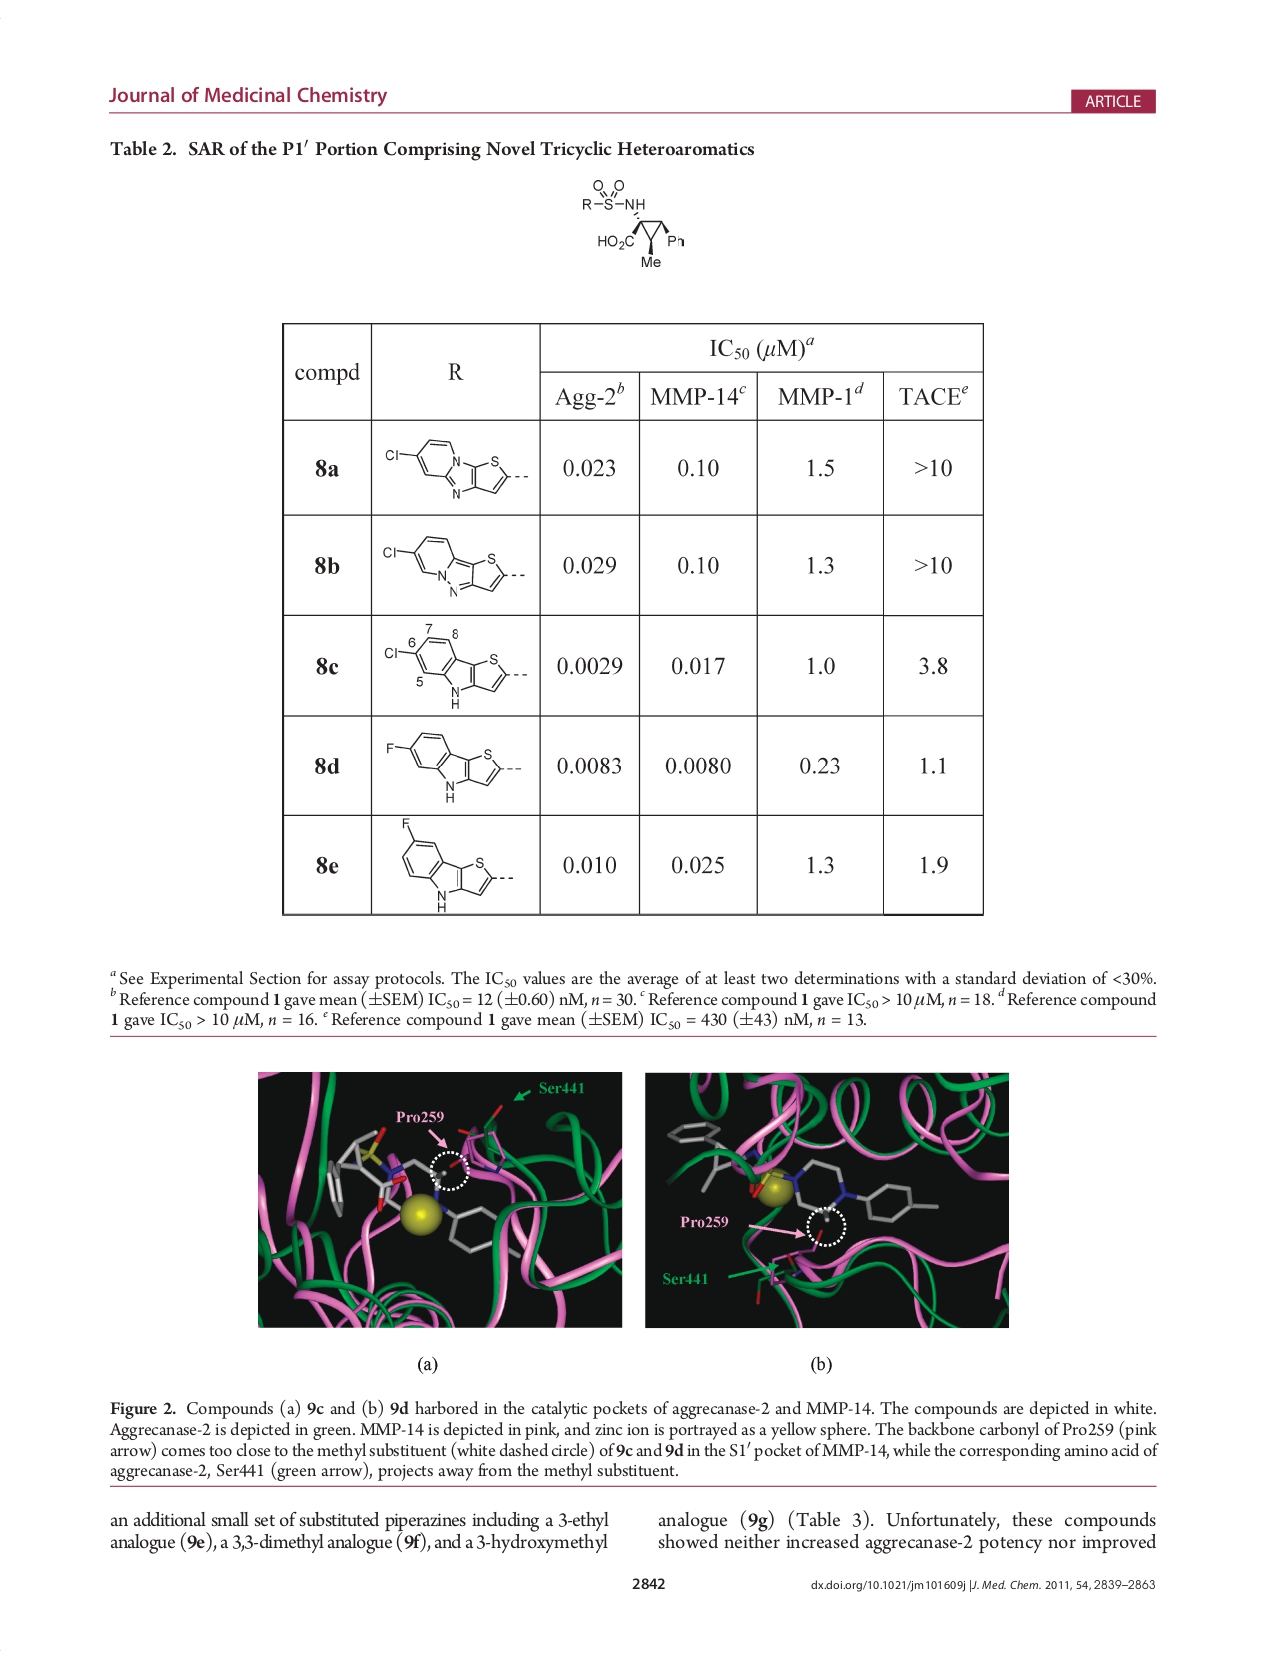exist_molecular: (378, 529, 533, 605), (398, 818, 517, 914), (383, 634, 532, 710), (386, 727, 528, 806), (382, 435, 532, 503), (577, 177, 685, 270)
